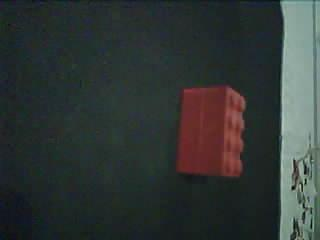lego: (175, 84, 246, 177)
